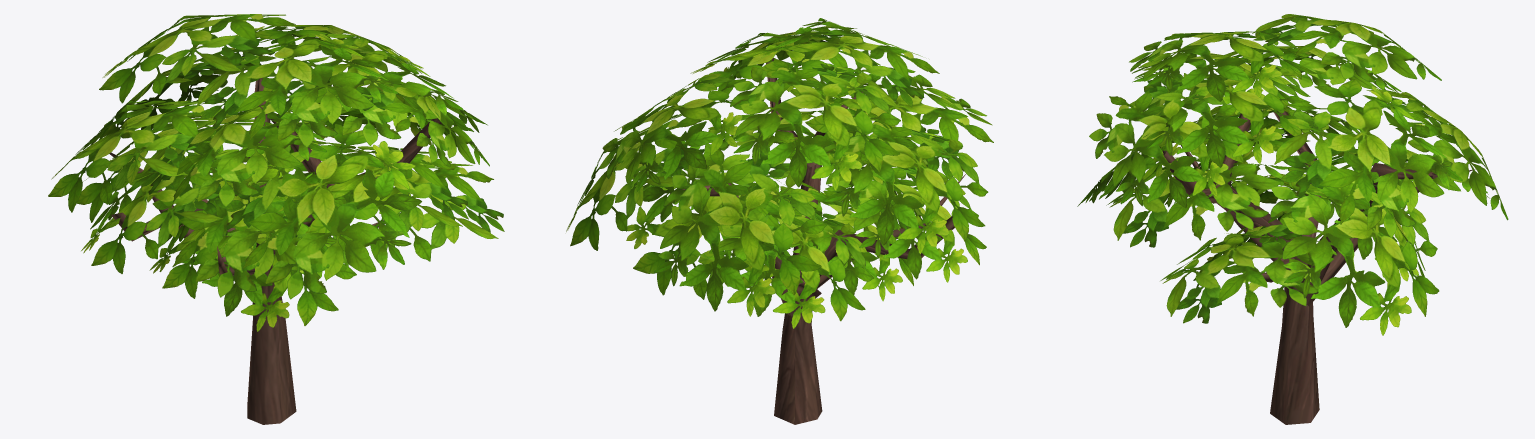
The model's file is Tree_Redapple.FBX.
3 renders of one model, left to right at view 1: azimuth 30°, elevation 25°; view 2: azimuth 150°, elevation 25°; view 3: azimuth 270°, elevation 25°, orthographic. The views are drawn at different scales.
Visible parts, largest first — view 1: Tree_Redapple; view 2: Tree_Redapple; view 3: Tree_Redapple.
Part boxes in pixels (x1=…): Tree_Redapple: x1=48, y1=14, x2=504, y2=424; Tree_Redapple: x1=566, y1=18, x2=993, y2=424; Tree_Redapple: x1=1077, y1=14, x2=1508, y2=424.
Bounding box in the file's own units: 29.06 × 23.72 × 26.67.
Materials: 1 (1 with a texture image).
